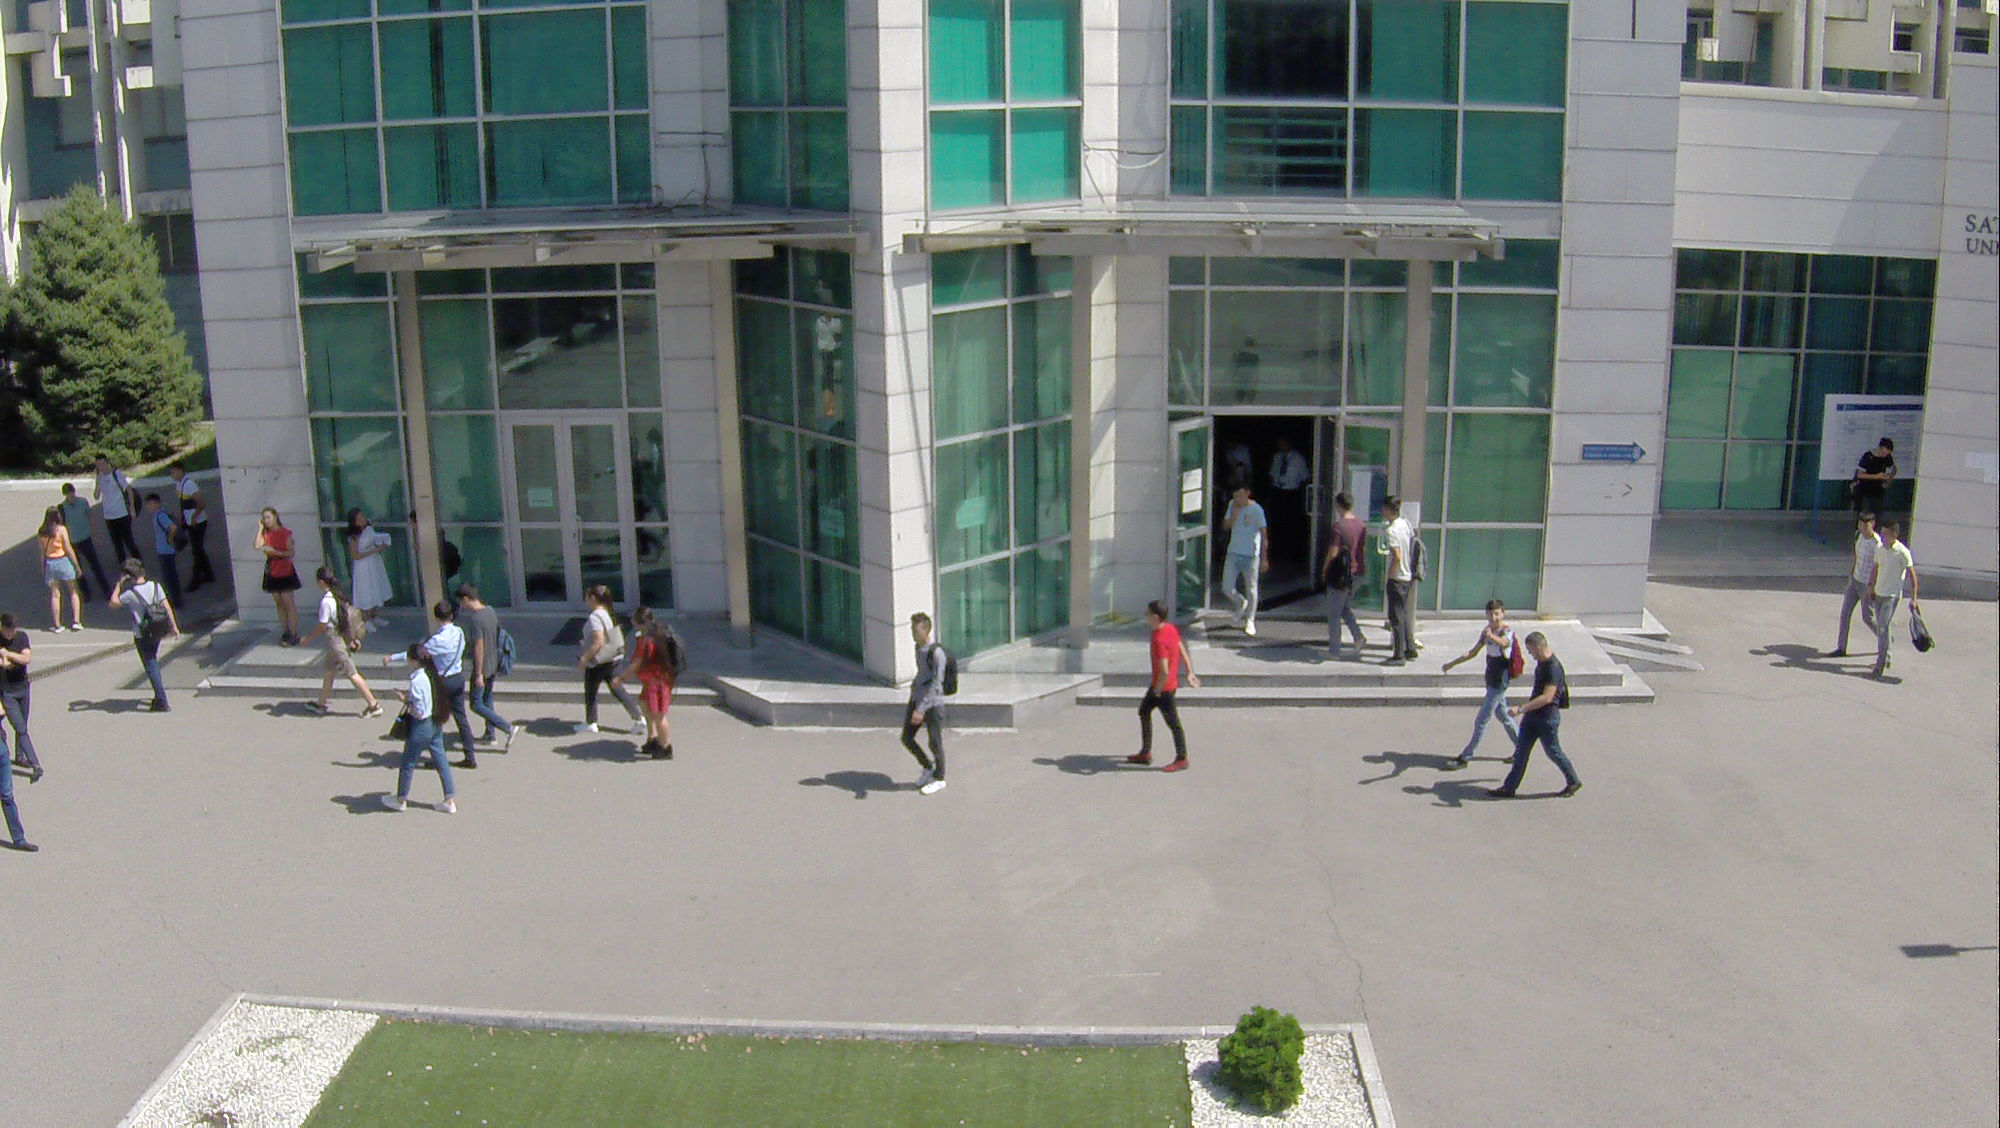person: (1505, 630, 1591, 809), (1443, 594, 1516, 778), (893, 609, 960, 799), (302, 564, 382, 724), (453, 575, 519, 759), (1130, 595, 1198, 774), (383, 643, 455, 811), (112, 556, 178, 716), (622, 600, 686, 766), (421, 607, 479, 766), (1876, 526, 1934, 689), (1316, 493, 1370, 663), (1378, 493, 1428, 670), (573, 580, 624, 739), (1, 610, 47, 783), (1220, 484, 1268, 638), (168, 455, 219, 598), (254, 507, 305, 647), (1831, 510, 1879, 657), (342, 505, 395, 631), (34, 505, 84, 631), (87, 451, 140, 561), (145, 491, 190, 608), (58, 476, 95, 602)
